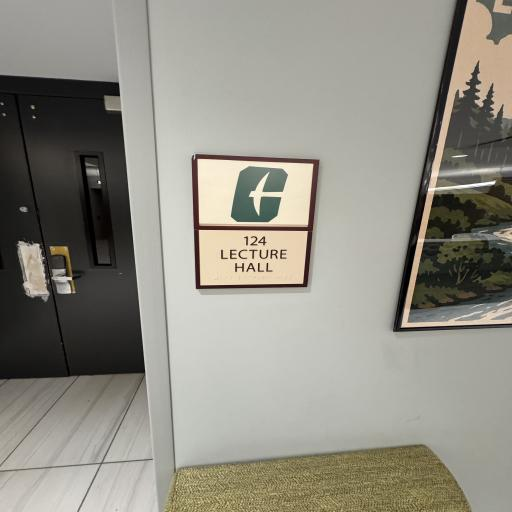doors: (0, 78, 135, 384)
poster: (390, 0, 512, 333)
room 124 sign: (185, 156, 326, 294)
